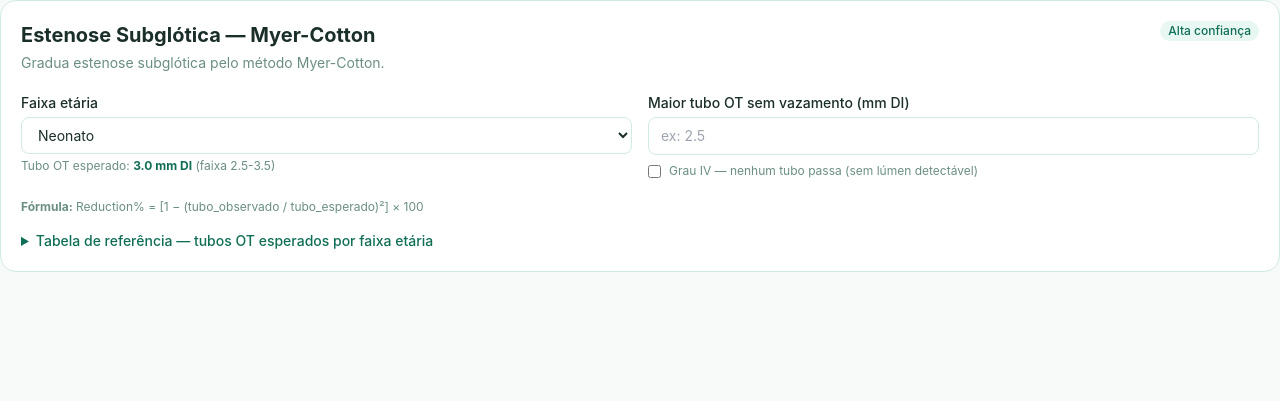
Test: MyCottonCalculator — interação › checkbox Grau IV exibe resultado de grau IV
Select "Escolar" in the dropdown labelled "Faixa etária Tubo OT esperado: 3.0 mm DI (faixa 2.5-3.5)" at coordinates (326, 136), box [21,117,632,154]
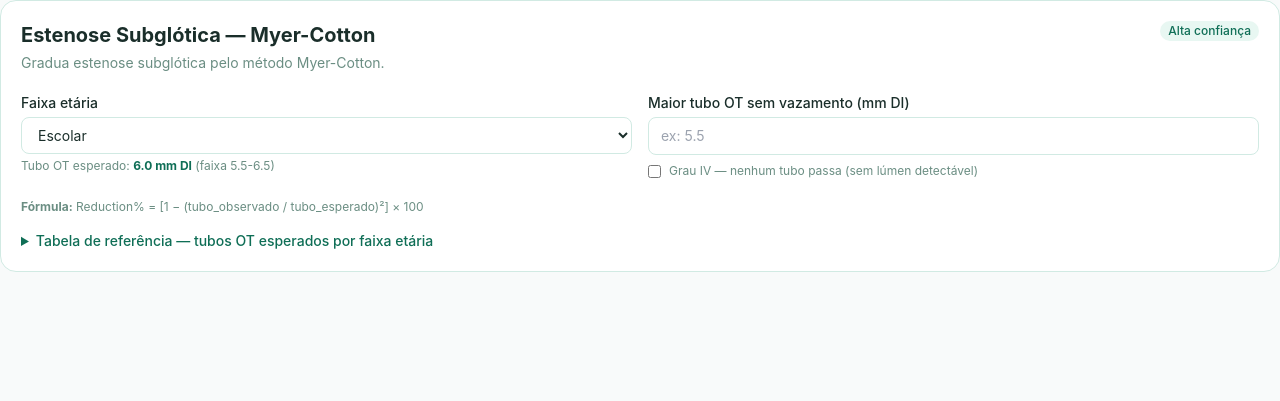
Click the checkbox labelled "Grau IV — nenhum tubo passa (sem lúmen detectável)" at coordinates (654, 171), box [648,164,661,178]
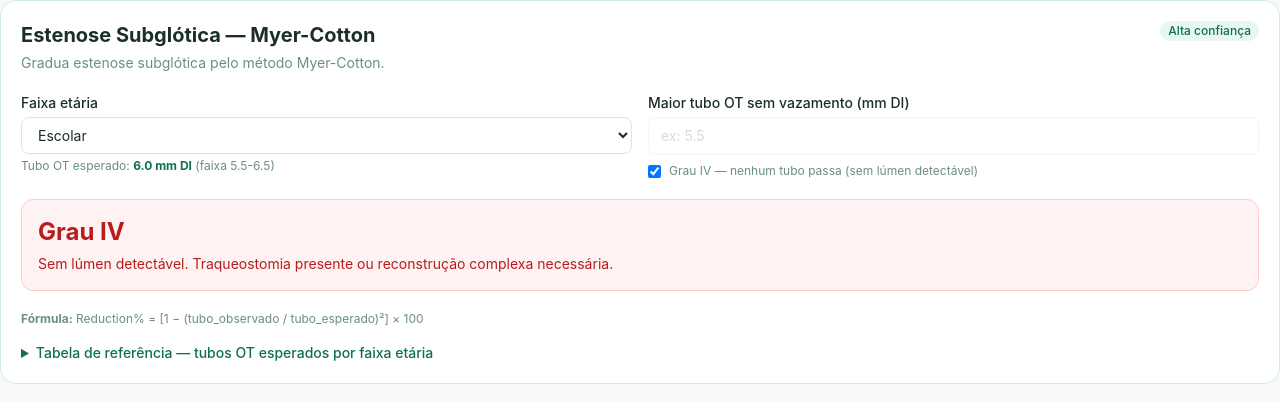
expect the message with test id "myer-cotton-result" shows "Grau IV": met, box [38,217,125,246]
